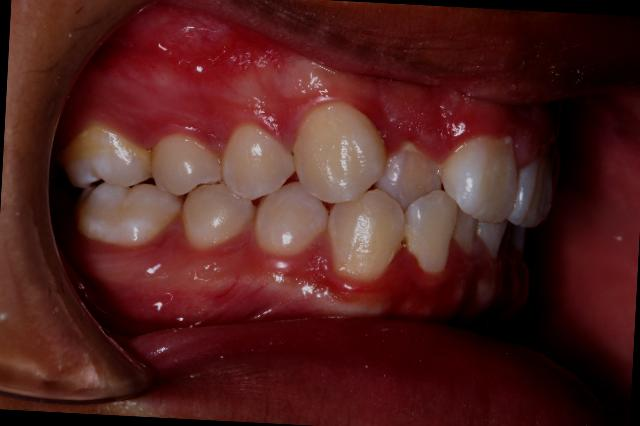canine class I: (251, 92, 415, 300)
molar class III 1/2: (52, 124, 188, 255)
